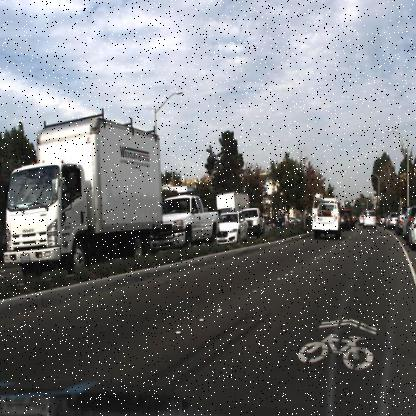car: (146, 184, 223, 255), (308, 191, 344, 240), (212, 206, 247, 253), (240, 205, 270, 245), (268, 210, 293, 237), (359, 208, 380, 233)
truck: (0, 97, 168, 283), (206, 182, 250, 223)
